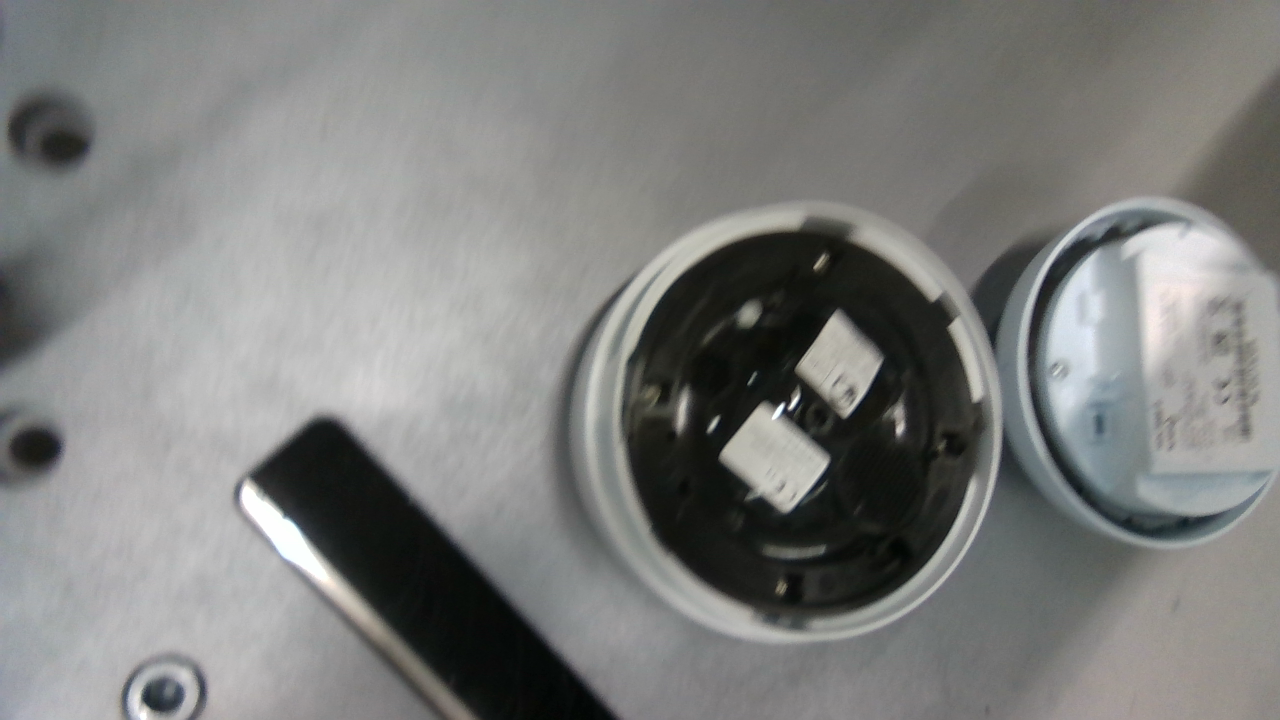HexScrew: (809, 245, 835, 279), (770, 575, 798, 601), (640, 381, 664, 410), (934, 434, 954, 461), (1048, 361, 1070, 381)
